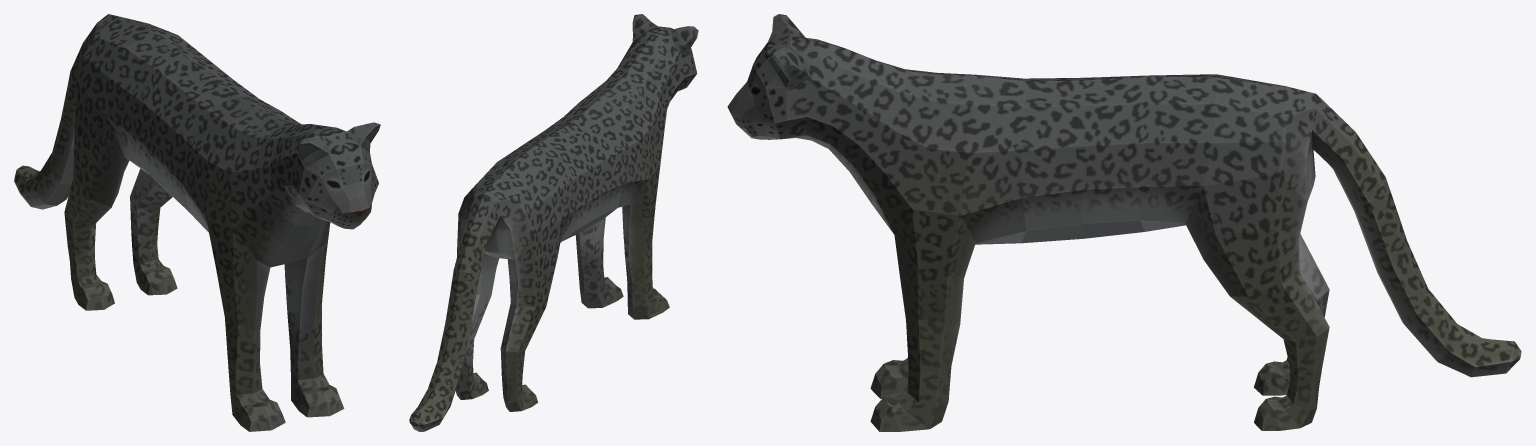
The model's file is SnowLeopard.glb.
The picture shows the model from 3 angles, left to right: view 1: azimuth 30°, elevation 25°; view 2: azimuth 150°, elevation 25°; view 3: azimuth 270°, elevation 25°; orthographic projection. The views are drawn at different scales.
Visible parts, largest first — view 1: node-0; view 2: node-0; view 3: node-0.
Part boxes in pixels (box(x1,y1,x2,y2)): node-0: box(14, 14, 380, 431); node-0: box(409, 14, 698, 431); node-0: box(727, 14, 1521, 431).
Size of the model in its own units: 0.1873 by 0.5169 by 1.
Materials: 1 (1 with a texture image).
